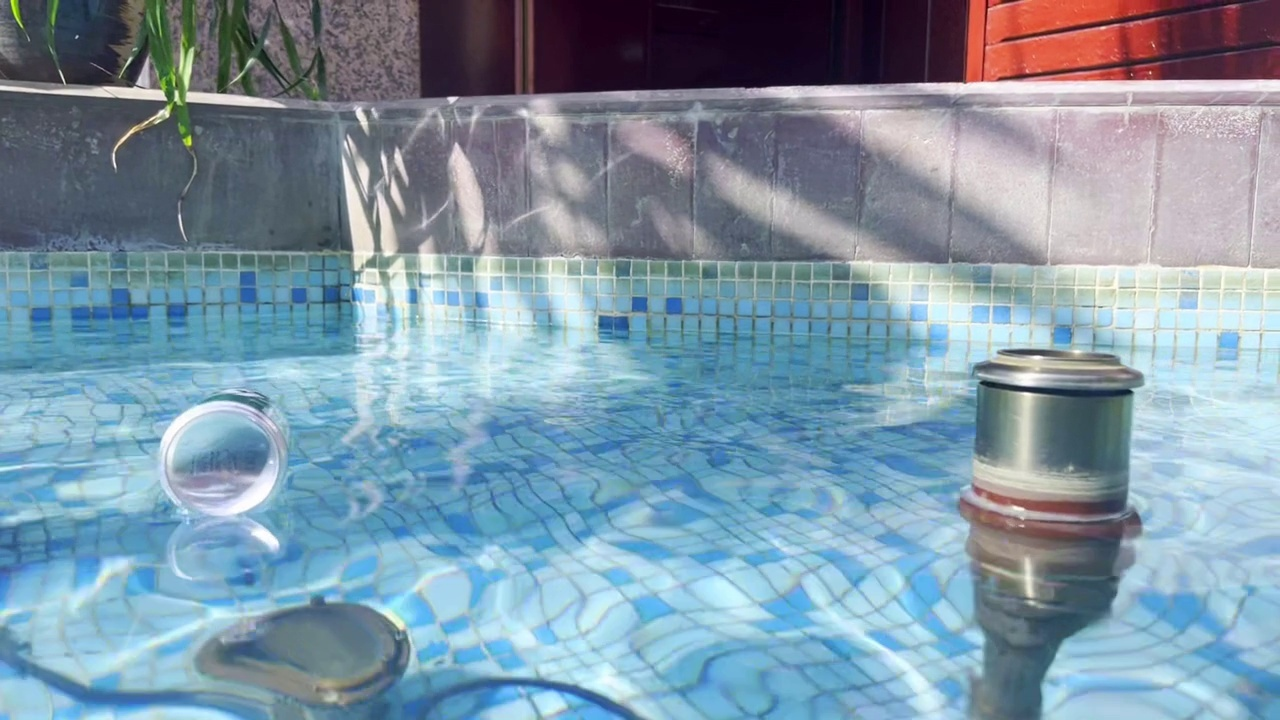debris: (157, 375, 291, 527)
